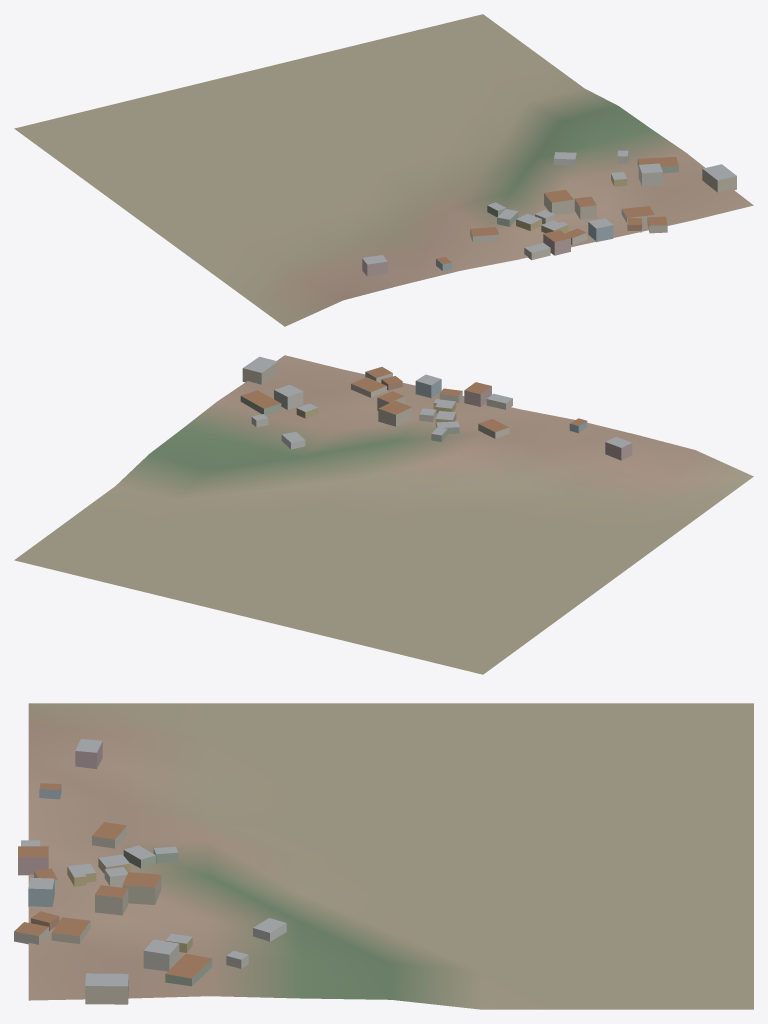
3 views of the same model, one above another, from view 1: azimuth 30°, elevation 25°; view 2: azimuth 150°, elevation 25°; view 3: azimuth 270°, elevation 25° (orthographic). The views are drawn at different scales.
Parts seen in each view (by area): view 1: Lo; view 2: Lo; view 3: Lo.
Part boxes in pixels (x1,y1,x2,y2): Lo: (14, 14, 753, 326); Lo: (14, 355, 753, 674); Lo: (14, 703, 753, 1009).
Size of the model in its own units: 259 by 12.06 by 261.
